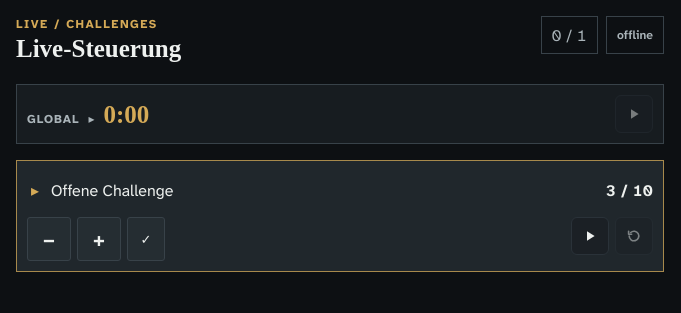
Test: Live-Bedienseite › rollt bei einem konkreten Fehler zurück und zeigt ihn kurz in der Zeile
Step 1. Click the button named "Offene Challenge starten" → click(590, 236), box [571, 217, 609, 255]
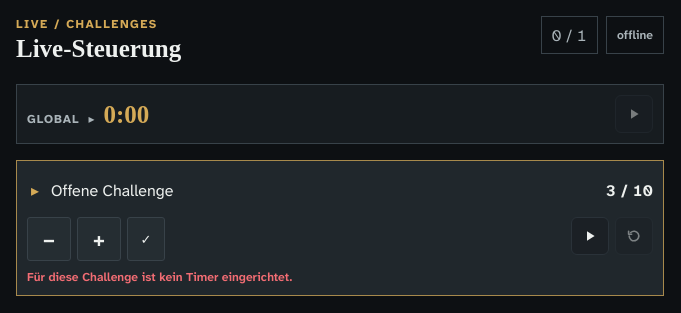
Expected: the text "3 / 10" is shown, [606, 180, 653, 200]
Now the message reads "Für diese Challenge ist kein Timer eingerichtet.", box [27, 269, 292, 285]
